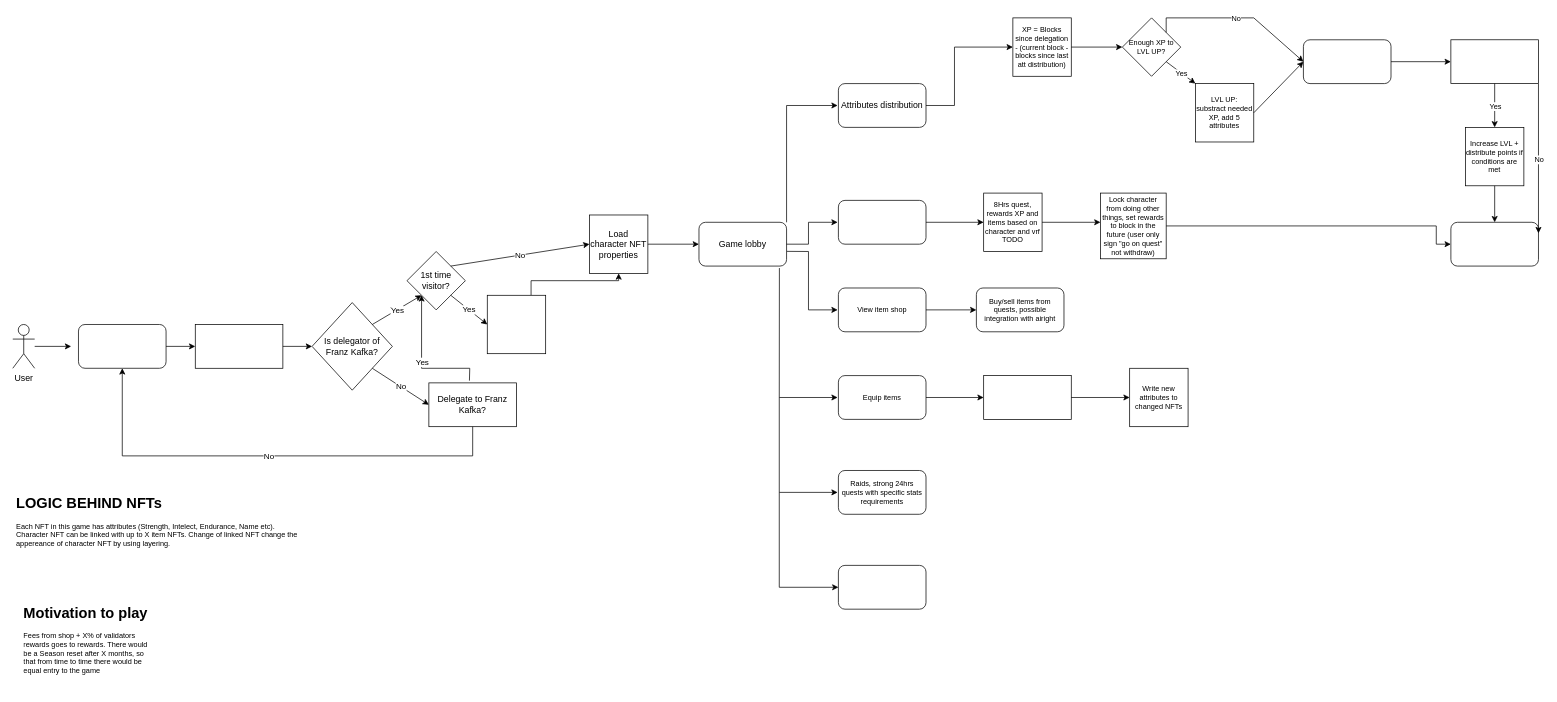
The diagram is 1557 pixels wide and 702 high, and some of its shapes have lost their labels. Each missing label, with the box of its shape:
Changing owned NFTs on Character. Increasing stats and adding abbilities: (983, 375, 1071, 419)
Create unique non tradable character NFT: (487, 295, 546, 354)
Franz Kafka web: (78, 324, 166, 368)
Free attributes distribution site: (1303, 39, 1391, 84)
Go on quest: (838, 200, 926, 244)
Login via Oraiwallet/Keplr: (195, 324, 283, 368)
RETURN TO LOBBY: (1450, 222, 1538, 266)
Save changes?: (1450, 39, 1538, 84)
TODO: Integration with other validators. Validator = guild. PVP etc...: (838, 565, 926, 609)
